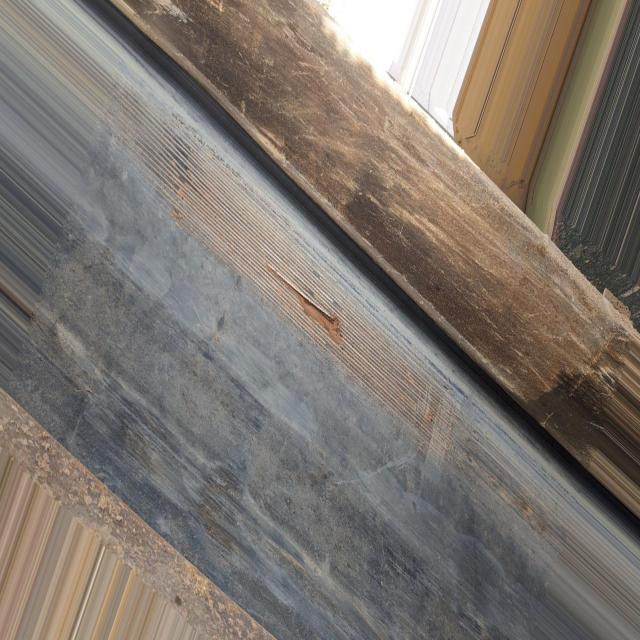Wear: (108, 72, 443, 440)
